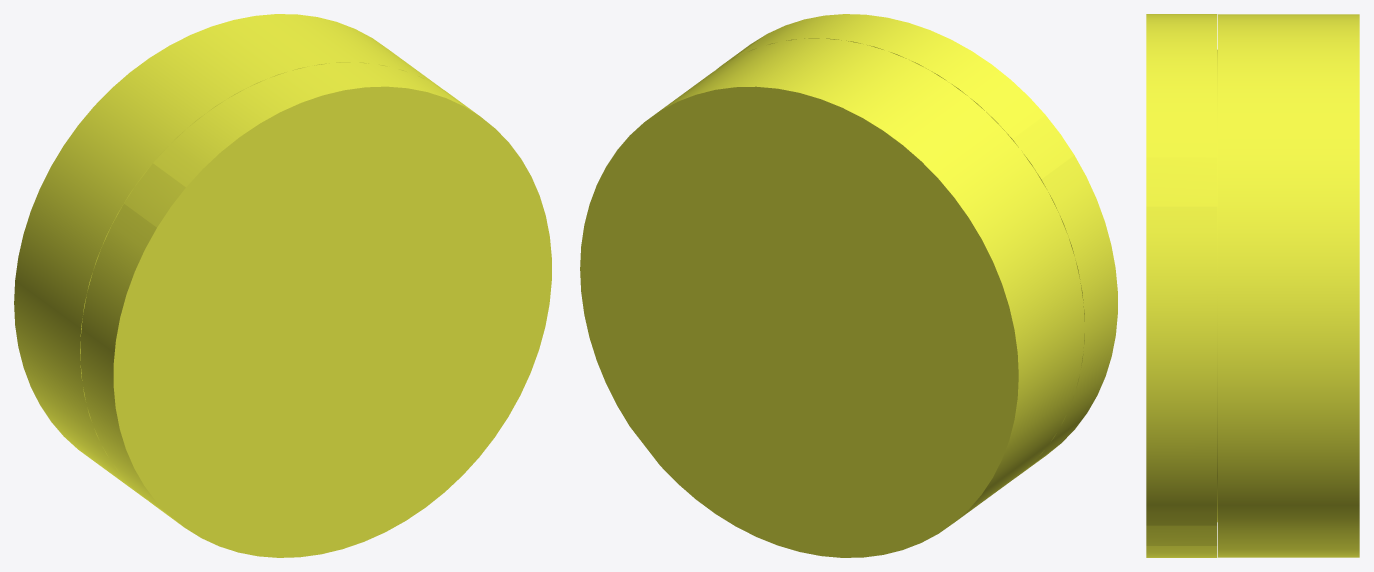
The model's file is inlet_plug_assembly.obj.
The picture shows the model from 3 angles, left to right: view 1: azimuth 30°, elevation 25°; view 2: azimuth 150°, elevation 25°; view 3: azimuth 270°, elevation 25°; orthographic projection. The views are drawn at different scales.
Parts seen in each view (by area): view 1: cap05_IDC05, plug01_IDP01, cap02_IDC02; view 2: plug06_IDP06, plug01_IDP01, cap05_IDC05, cap02_IDC02; view 3: plug01_IDP01, cap05_IDC05, cap01_IDC01, cap04_IDC04, plug02_IDP02.
Part boxes in pixels (box(x1,y1,x2,y2)): cap05_IDC05: box(80, 62, 551, 557); plug01_IDP01: box(14, 14, 441, 496); cap02_IDC02: box(124, 163, 185, 227); plug06_IDP06: box(580, 86, 1018, 557); plug01_IDP01: box(650, 38, 1084, 521); cap05_IDC05: box(717, 14, 1117, 469); cap02_IDC02: box(1012, 115, 1073, 178); plug01_IDP01: box(1218, 14, 1359, 557); cap05_IDC05: box(1146, 14, 1217, 557); cap01_IDC01: box(1146, 157, 1217, 206); cap04_IDC04: box(1146, 525, 1217, 545); plug02_IDP02: box(1217, 49, 1217, 522).
Bounding box in the file's own units: 0.96 × 0.96 × 0.3765.
